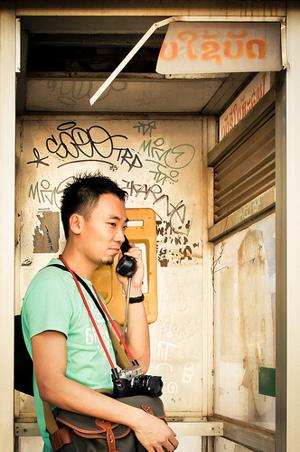person: (20, 169, 178, 452)
